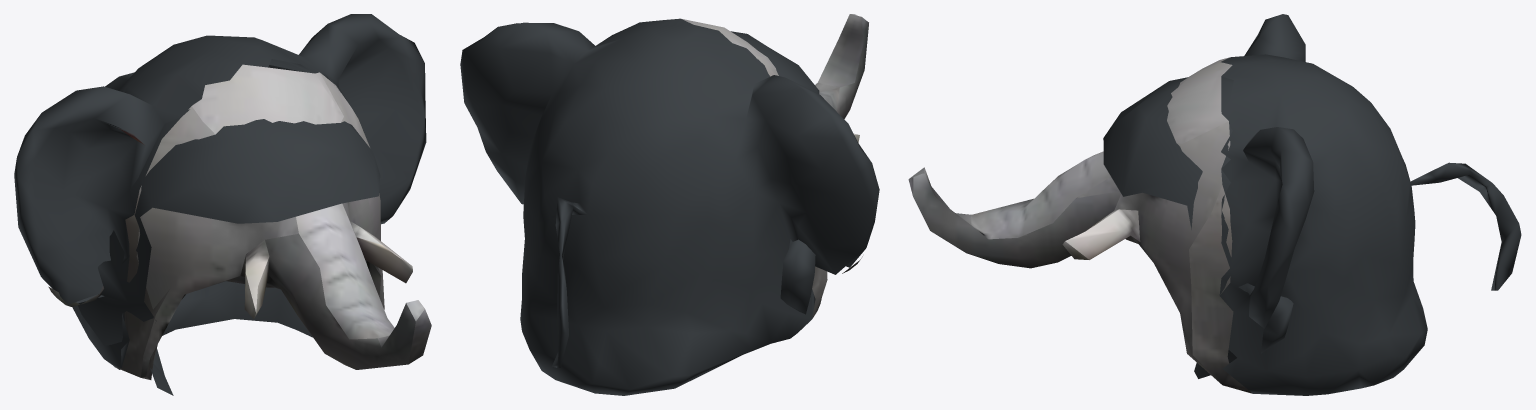
The model's file is elephant.glb.
The picture shows the model from 3 angles, left to right: view 1: azimuth 30°, elevation 25°; view 2: azimuth 150°, elevation 25°; view 3: azimuth 270°, elevation 25°; orthographic projection. The views are drawn at different scales.
Parts seen in each view (by area): view 1: geometry_0, HoodAnatomicalLining; view 2: geometry_0, HoodAnatomicalLining; view 3: geometry_0, HoodAnatomicalLining.
Part boxes in pixels (x1,y1,x2,y2): geometry_0: (14,14,431,379); HoodAnatomicalLining: (78,116,380,395); geometry_0: (460,14,879,395); HoodAnatomicalLining: (731,31,819,314); geometry_0: (908,14,1521,395); HoodAnatomicalLining: (1103,76,1293,378).
Bounding box in the file's own units: 0.6511 × 0.4627 × 0.9047.
Materials: 2 (1 with a texture image).
